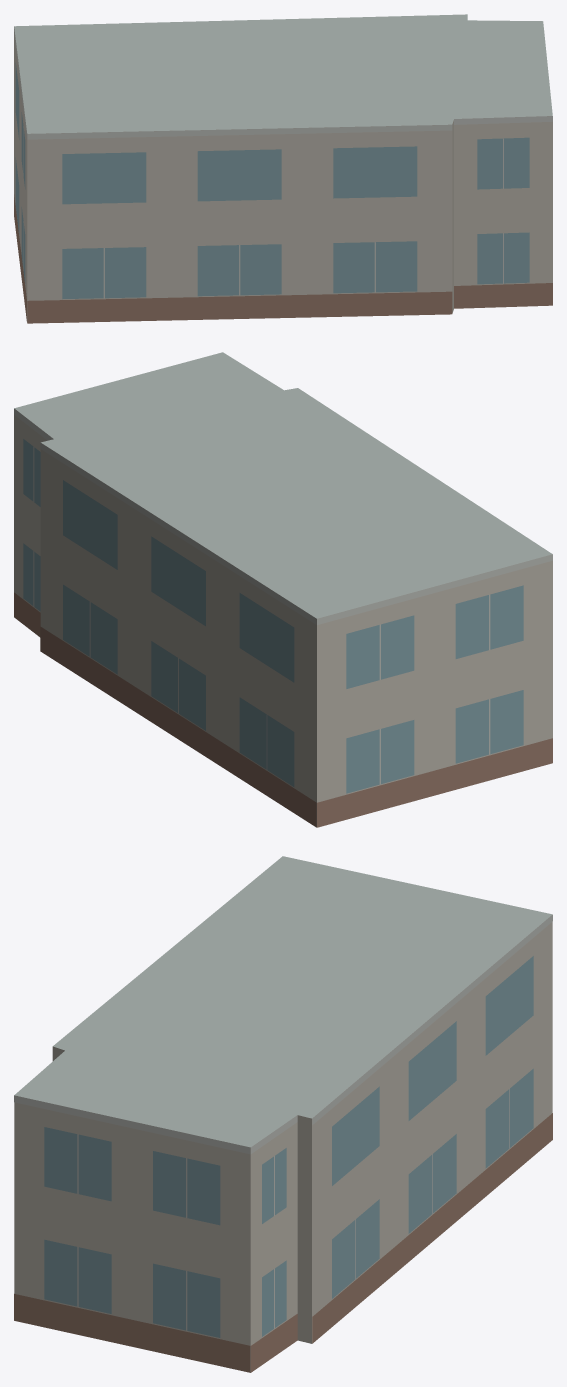
Rendered from survey-upis-32537696.glb.
The picture shows the model from 3 angles, top to bottom: view 1: azimuth 30°, elevation 25°; view 2: azimuth 150°, elevation 25°; view 3: azimuth 270°, elevation 25°; orthographic projection. The views are drawn at different scales.
Parts seen in each view (by area): view 1: survey-upis-32537696.tmp; view 2: survey-upis-32537696.tmp; view 3: survey-upis-32537696.tmp.
Boxes of the visible parts, x1,y1,x2,y2 form: survey-upis-32537696.tmp: (14,14,552,323); survey-upis-32537696.tmp: (14,352,552,827); survey-upis-32537696.tmp: (14,856,552,1372).
Bounding box in the file's own units: 21.91 × 7.9 × 17.12.
